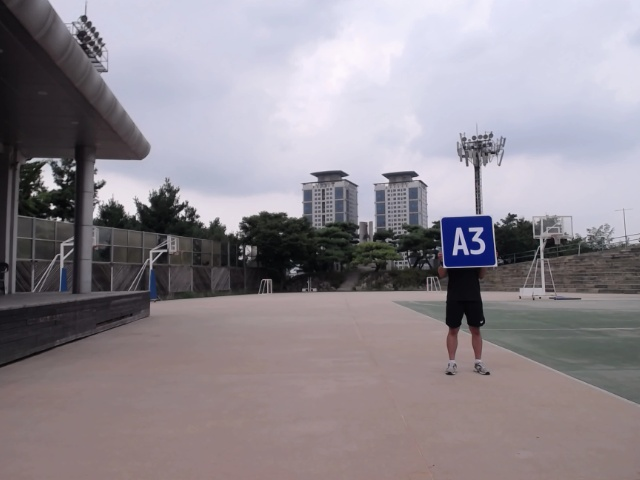delivery_a3: (439, 215, 497, 268)
